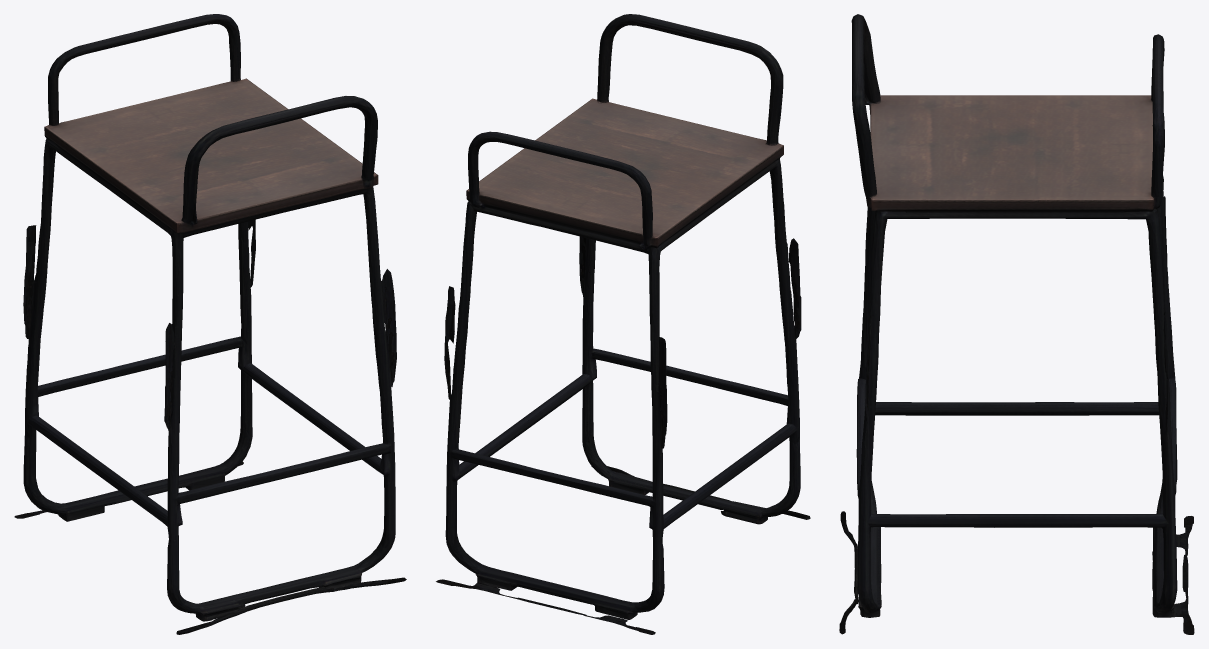
The model's file is Stella Stool.glb.
3 renders of one model, left to right at view 1: azimuth 30°, elevation 25°; view 2: azimuth 150°, elevation 25°; view 3: azimuth 270°, elevation 25°, orthographic. The views are drawn at different scales.
Parts seen in each view (by area): view 1: world; view 2: world; view 3: world.
Part boxes in pixels (left/top/right/bottom): world: left=14, top=14, right=406, bottom=634; world: left=436, top=14, right=810, bottom=634; world: left=839, top=14, right=1194, bottom=634.
Size of the model in its own units: 0.4928 by 0.9973 by 0.608.
1 material, 1 textured.
